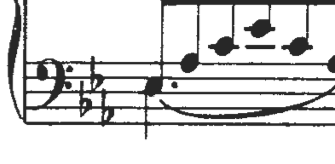bass_clef: (28, 51, 75, 117)
flat: (76, 74, 95, 122), (86, 53, 107, 96), (98, 86, 118, 130)
